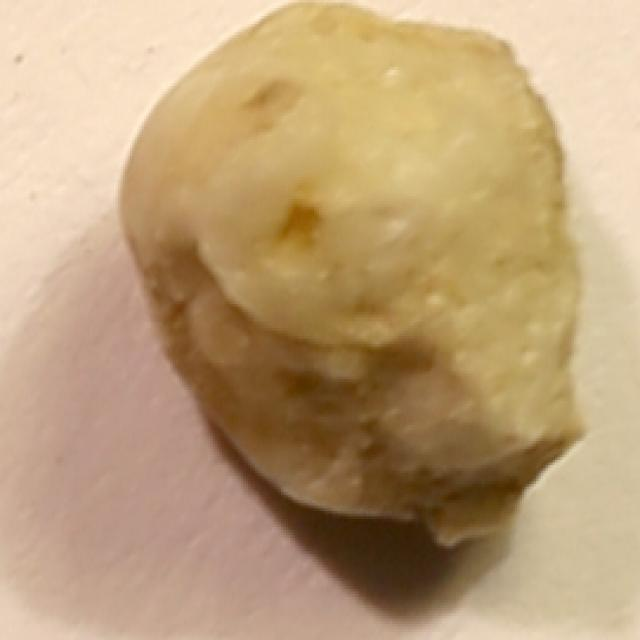stone: (112, 3, 600, 555)
